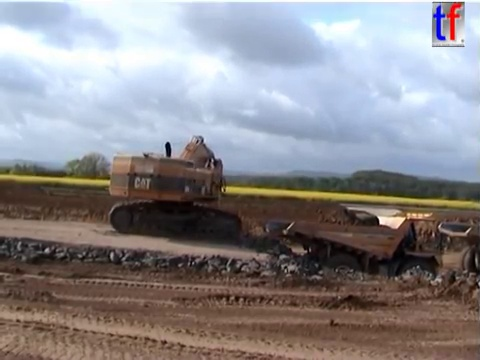excavator: (105, 133, 243, 244)
truck: (262, 210, 445, 300), (435, 219, 480, 282)
